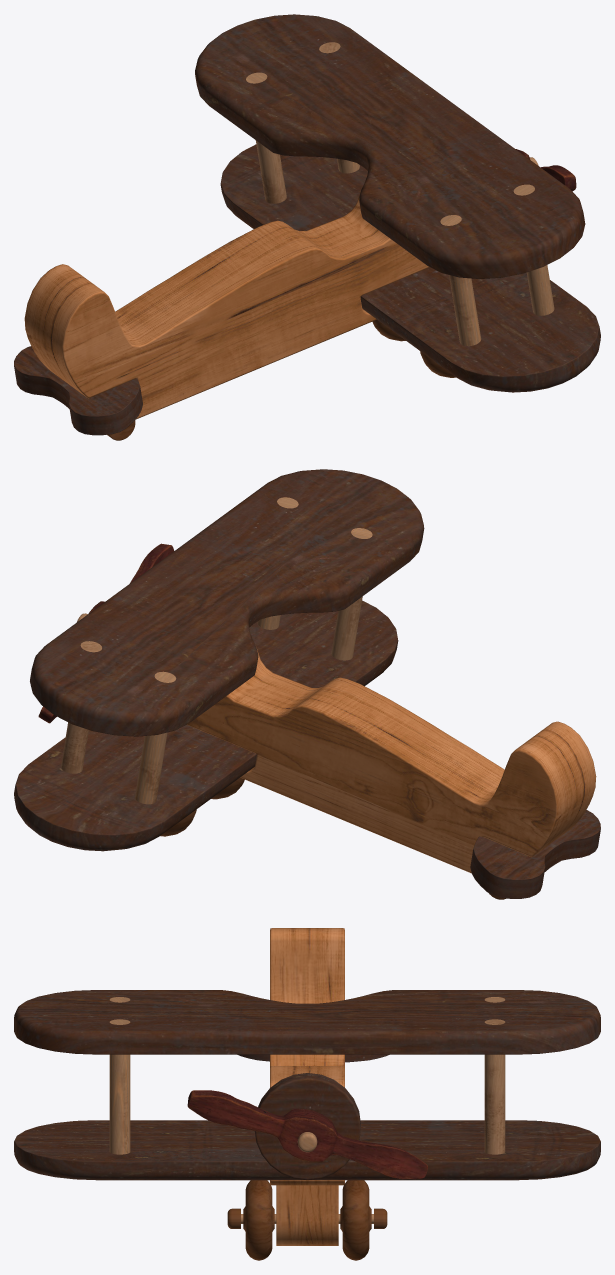
Rendered from MOD_ART_ThreeRooms.fbx_Airplane_Toy_-_Biplane.fbx.
The picture shows the model from 3 angles, top to bottom: view 1: azimuth 30°, elevation 25°; view 2: azimuth 150°, elevation 25°; view 3: azimuth 270°, elevation 25°; orthographic projection. The views are drawn at different scales.
Visible parts, largest first — view 1: Wings_Up, Base Body, Wings_Down, Cylinder.020, Plane.016, Cylinder.023; view 2: Wings_Up, Base Body, Wings_Down, Plane.016, Cylinder.020, Cube.045, Cylinder.023; view 3: Wings_Up, Wings_Down, Base Body, Cube.045, Circle.012, Cylinder.020, Cylinder.023, Cube.047, Circle.011, Plane.016.
Part boxes in pixels (x1=…): Wings_Up: x1=195, y1=14, x2=585, y2=278; Base Body: x1=24, y1=191, x2=429, y2=419; Wings_Down: x1=220, y1=144, x2=600, y2=392; Cylinder.020: x1=246, y1=42, x2=554, y2=346; Plane.016: x1=14, y1=346, x2=142, y2=435; Cylinder.023: x1=372, y1=320, x2=455, y2=377; Wings_Up: x1=30, y1=469, x2=424, y2=736; Base Body: x1=187, y1=647, x2=596, y2=873; Wings_Down: x1=14, y1=600, x2=398, y2=851; Plane.016: x1=470, y1=810, x2=600, y2=898; Cylinder.020: x1=61, y1=497, x2=372, y2=804; Cube.045: x1=38, y1=543, x2=174, y2=723; Cylinder.023: x1=160, y1=777, x2=244, y2=836; Wings_Up: x1=14, y1=990, x2=600, y2=1054; Wings_Down: x1=14, y1=1120, x2=600, y2=1180; Base Body: x1=270, y1=928, x2=344, y2=1185; Cube.045: x1=187, y1=1090, x2=427, y2=1179; Circle.012: x1=254, y1=1073, x2=360, y2=1180; Cylinder.020: x1=109, y1=997, x2=505, y2=1154; Cylinder.023: x1=243, y1=1180, x2=371, y2=1260; Cube.047: x1=276, y1=1185, x2=338, y2=1245; Circle.011: x1=227, y1=1208, x2=387, y2=1228; Plane.016: x1=237, y1=1054, x2=389, y2=1062.
Size of the model in its own units: 23.7 by 11.26 by 25.34.
1 material, 1 textured.
